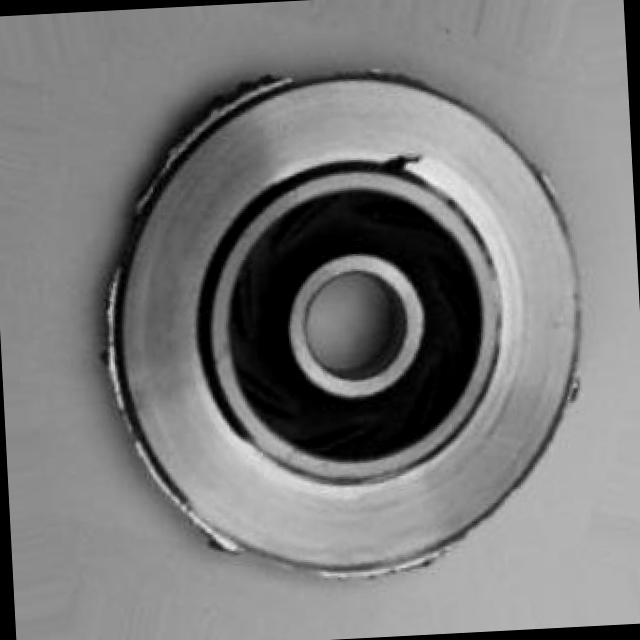Defect: (382, 143, 419, 178)
